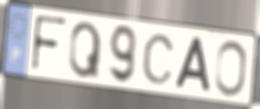9: (107, 24, 138, 86)
A: (173, 34, 213, 94)
C: (141, 32, 177, 86)
F: (30, 12, 69, 75)
O: (213, 39, 248, 99)
Q: (68, 20, 103, 81)
